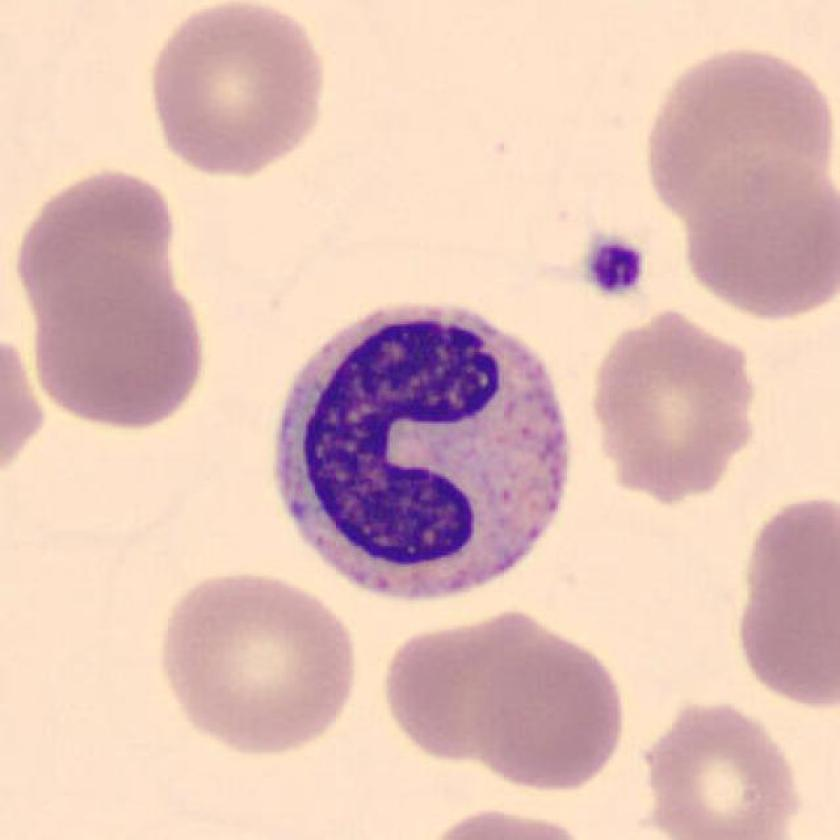neutrophil: (273, 304, 567, 600)
